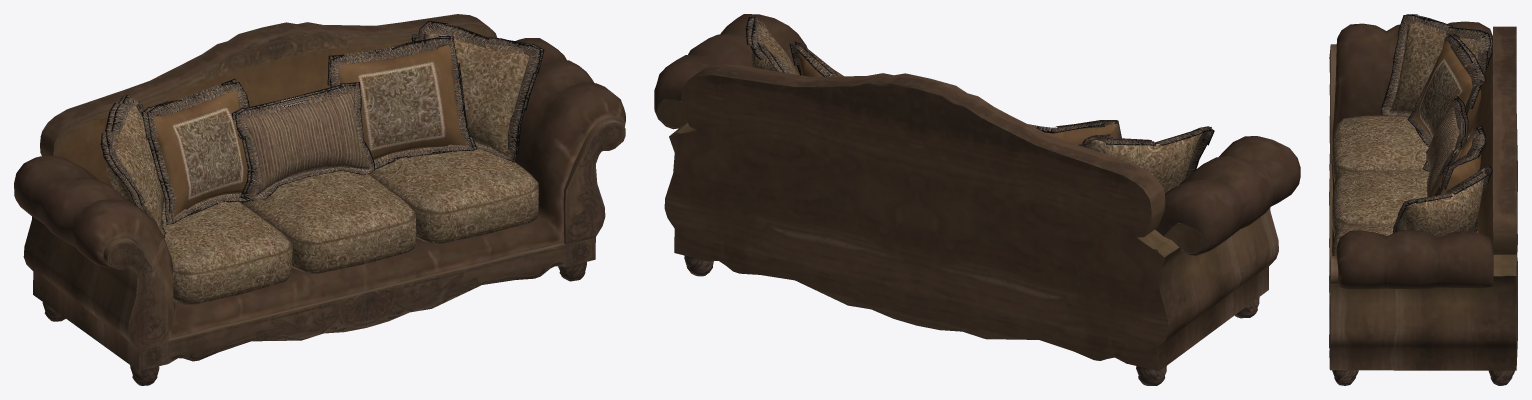
File: sofa_03.glb
3 views of the same model, side by side, from view 1: azimuth 30°, elevation 25°; view 2: azimuth 150°, elevation 25°; view 3: azimuth 270°, elevation 25° (orthographic). The views are drawn at different scales.
Visible parts, largest first — view 1: sofa_03; view 2: sofa_03; view 3: sofa_03.
Boxes of the visible parts, box(x1,y1,x2,y2) form: sofa_03: box(14, 14, 625, 385); sofa_03: box(654, 14, 1300, 385); sofa_03: box(1329, 14, 1517, 385).
Bounding box in the file's own units: 2.73 × 1.12 × 0.925.
Materials: 2 (2 with a texture image).
